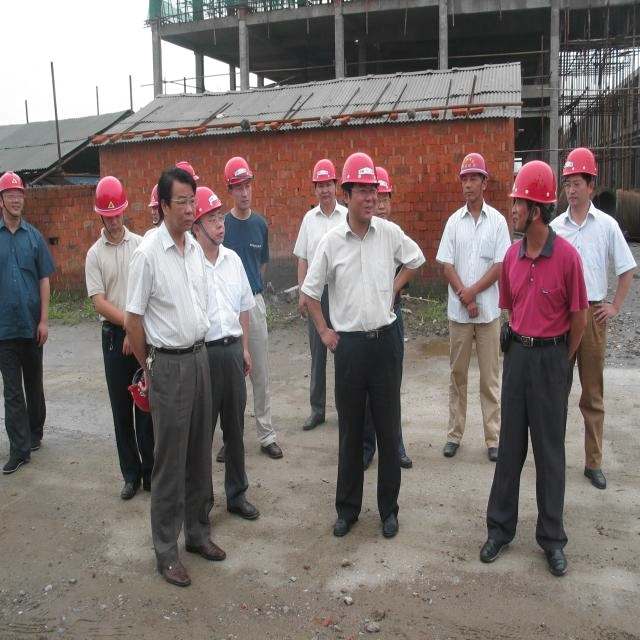Con_Casco: (563, 147, 598, 206), (458, 153, 488, 204)
Sin_Casco_Mascarrilla: (156, 167, 196, 233)
Sin_Chaleco: (328, 217, 400, 337)
